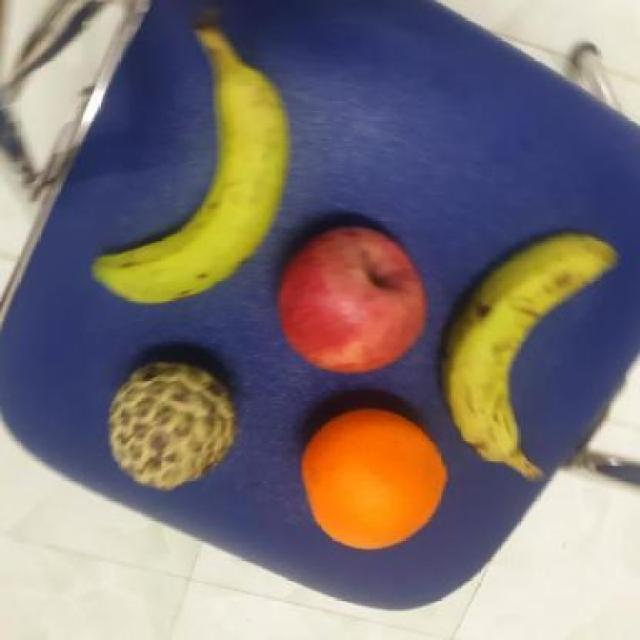apple: (278, 221, 433, 377)
banana: (90, 61, 288, 314), (440, 231, 625, 465)
oren: (295, 407, 449, 555)
sugar apple: (105, 358, 239, 494)
